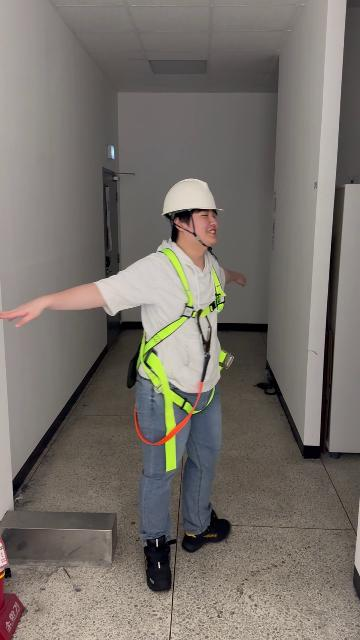helmet_worn: (160, 178, 225, 218)
shoe_worn: (182, 508, 230, 552), (142, 535, 174, 591)
vest_worn: (129, 250, 234, 458)
